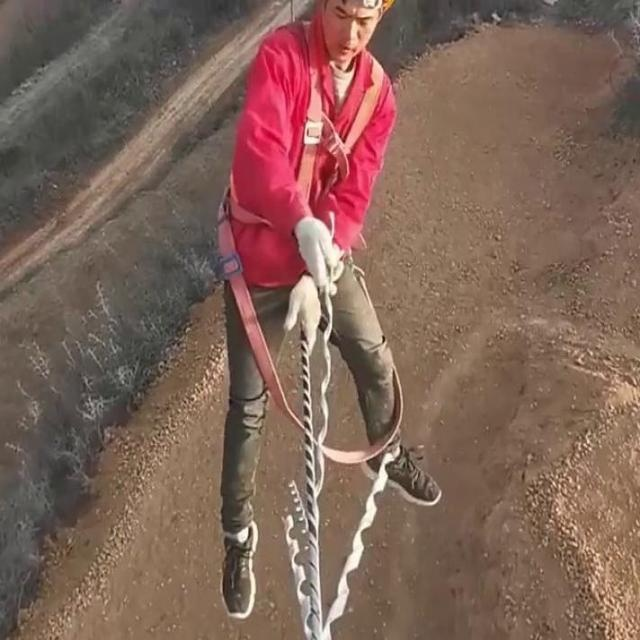Arnes_seguridad: (213, 11, 387, 280)
